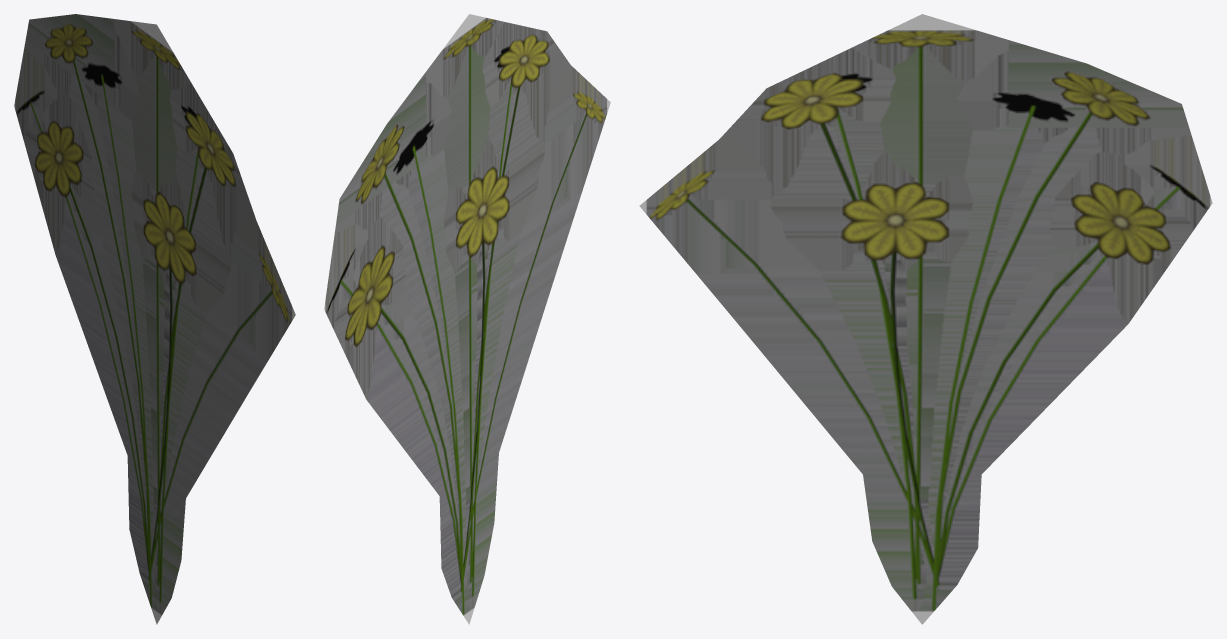
Rendered from flor1.fbx.
The picture shows the model from 3 angles, left to right: view 1: azimuth 30°, elevation 25°; view 2: azimuth 150°, elevation 25°; view 3: azimuth 270°, elevation 25°; orthographic projection.
Parts seen in each view (by area): view 1: flor1; view 2: flor1; view 3: flor1.
Part boxes in pixels (box(x1,y1,x2,y2)): flor1: box(14, 14, 295, 624); flor1: box(324, 14, 610, 624); flor1: box(639, 14, 1212, 624).
Bounding box in the file's own units: 2.82e-15 × 8.56 × 7.28.
